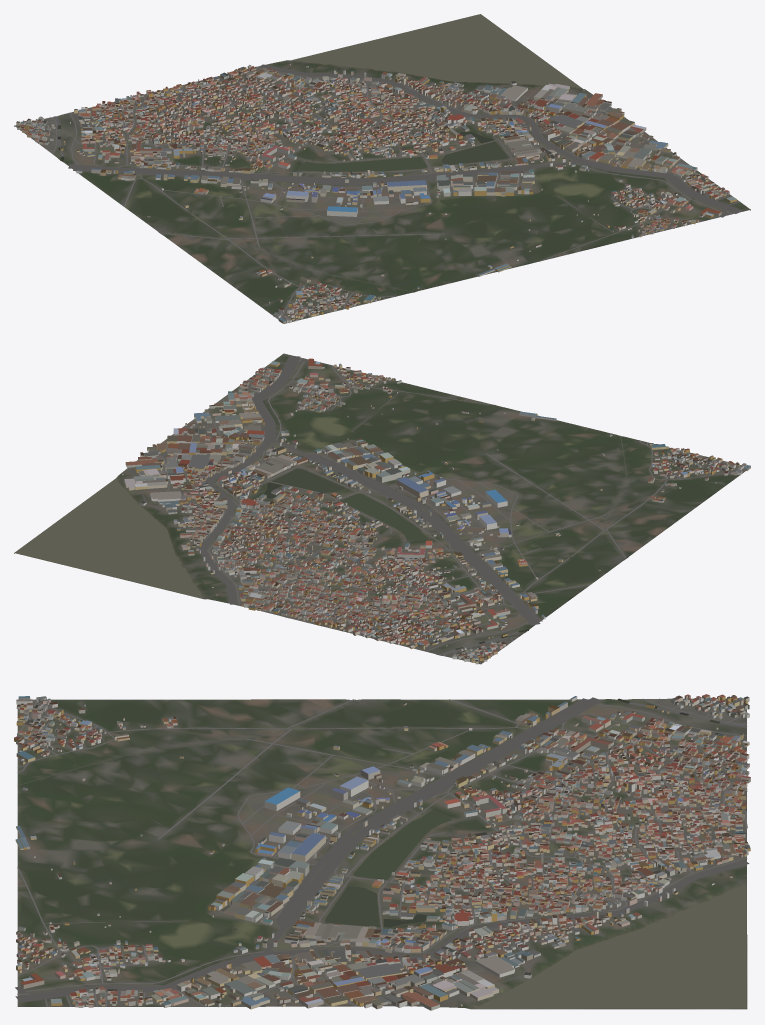
3 views of the same model, one above another, from view 1: azimuth 30°, elevation 25°; view 2: azimuth 150°, elevation 25°; view 3: azimuth 270°, elevation 25° (orthographic). The views are drawn at different scales.
Parts seen in each view (by area): view 1: ground, buildings, water, roads; view 2: ground, buildings, water, roads; view 3: ground, buildings, water, roads.
Boxes of the visible parts, bbox=[...] form: ground: bbox=[14, 17, 750, 323]; buildings: bbox=[16, 63, 736, 323]; water: bbox=[54, 14, 580, 292]; roads: bbox=[14, 64, 742, 321]; ground: bbox=[14, 353, 745, 663]; buildings: bbox=[122, 358, 750, 664]; water: bbox=[15, 435, 626, 655]; roads: bbox=[142, 355, 743, 664]; ground: bbox=[17, 698, 747, 1009]; buildings: bbox=[14, 694, 750, 1010]; water: bbox=[17, 698, 747, 1008]; roads: bbox=[15, 697, 749, 1006].
Size of the model in its own units: 1423 by 27.66 by 1416.
